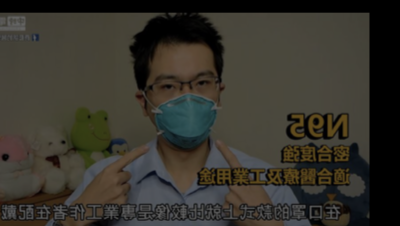with_mask: (146, 68, 219, 148)
